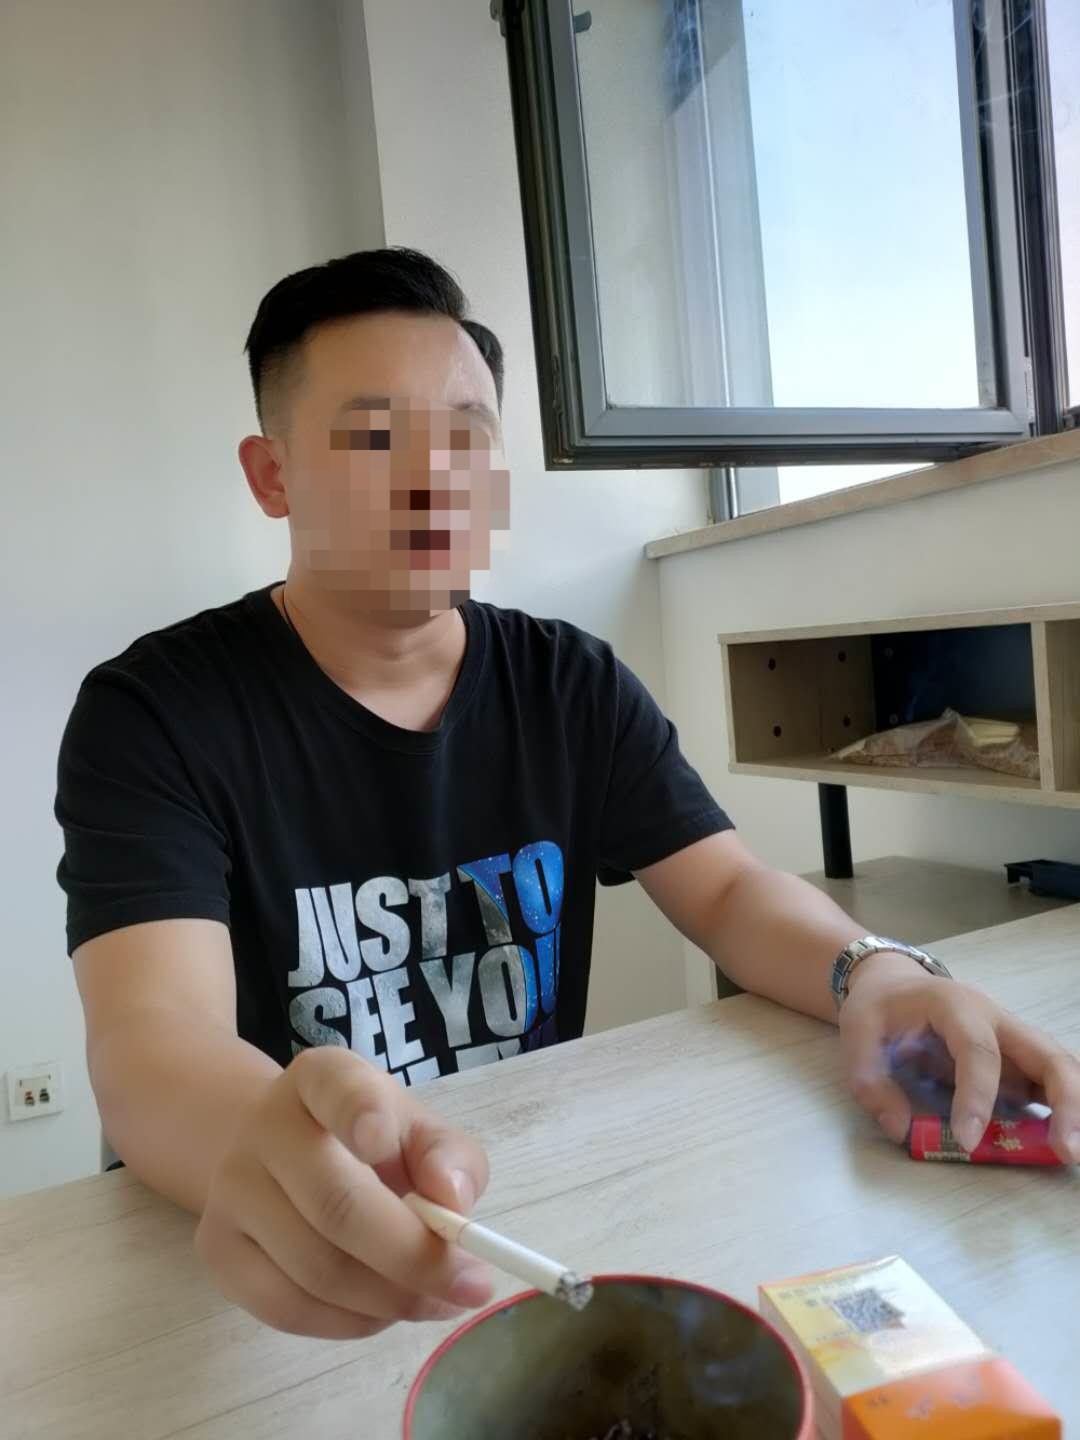smoke: (404, 1197, 600, 1313)
